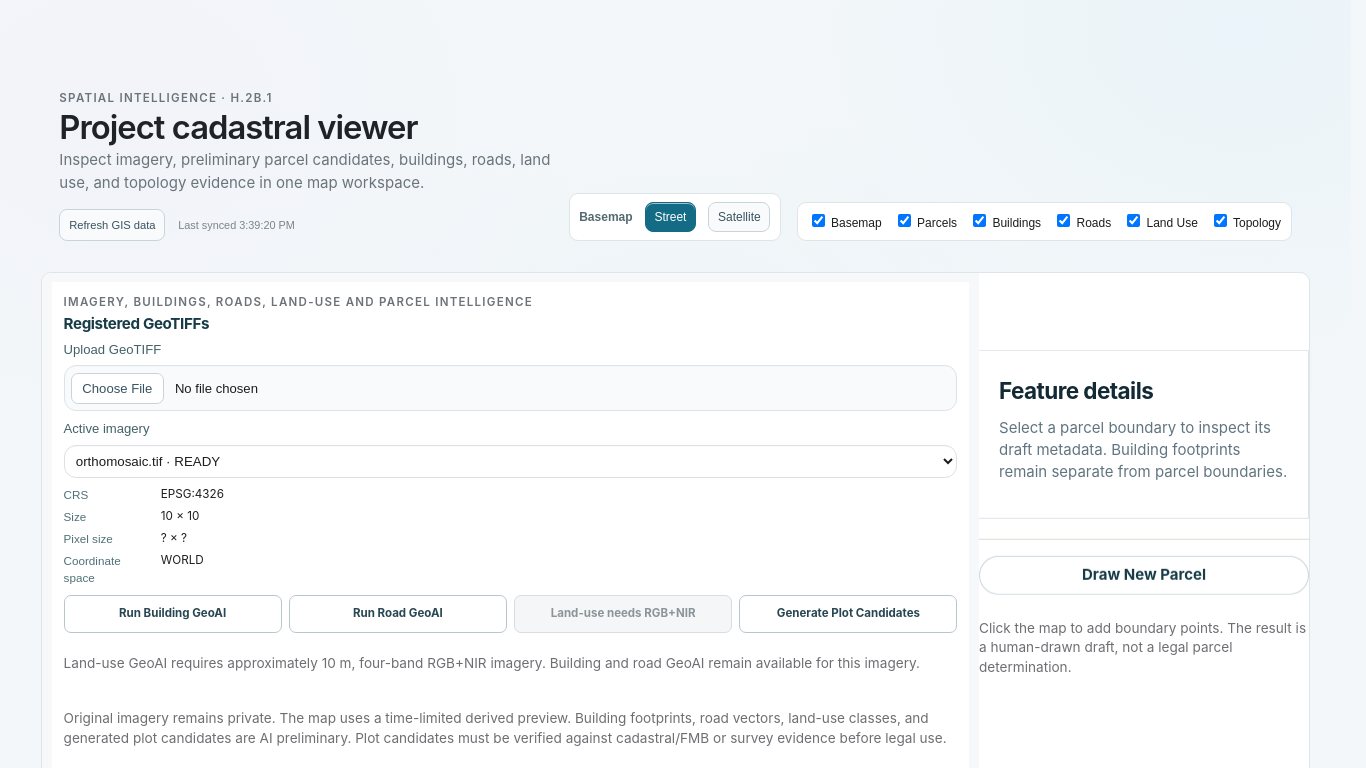
Test: GisPage › lets an authorized user queue Road GeoAI for ready private imagery
Click the button "Run Road GeoAI".
click(398, 614)  # box [289,595,507,633]
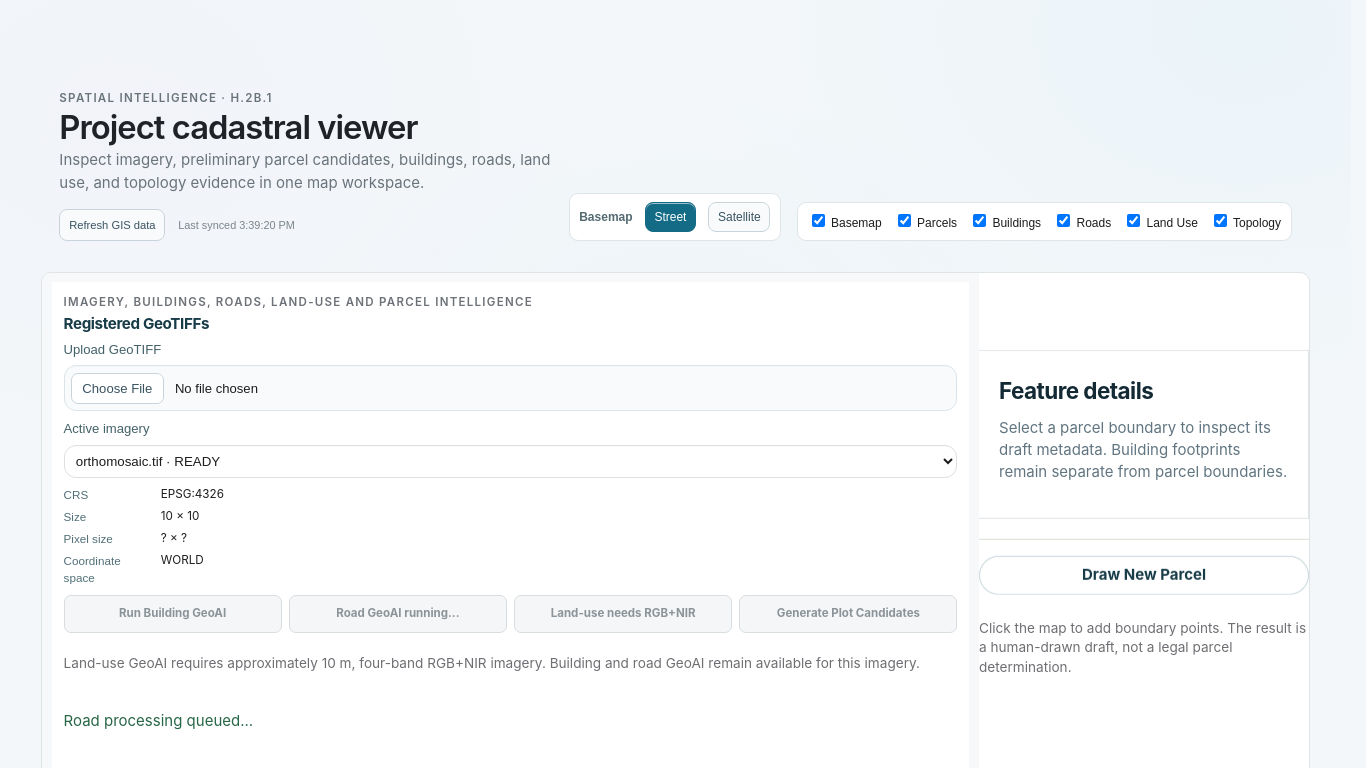
expect the text "Road processing queued..." is shown: met, box [64,712,253,730]
